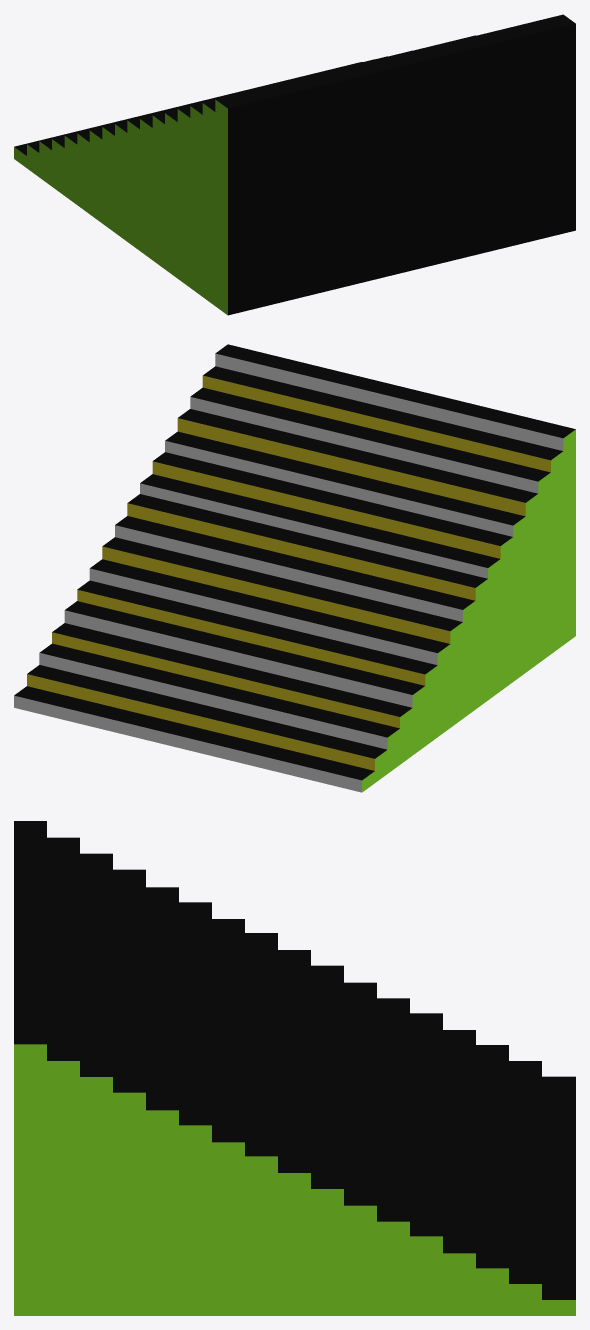
File: Stairs.fbx
3 views of the same model, one above another, from view 1: azimuth 30°, elevation 25°; view 2: azimuth 150°, elevation 25°; view 3: azimuth 270°, elevation 25° (orthographic). The views are drawn at different scales.
Visible parts, largest first — view 1: Step; view 2: Step; view 3: Step.
Part boxes in pixels (bbox=[...]): Step: bbox=[14, 14, 575, 315]; Step: bbox=[14, 344, 575, 792]; Step: bbox=[14, 821, 575, 1315].
Size of the model in its own units: 30 by 17.04 by 31.93.
